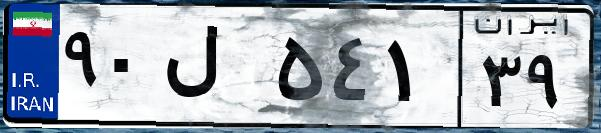0: (110, 28, 158, 98)
1: (385, 28, 445, 110)
3: (475, 38, 525, 113)
4: (330, 28, 385, 110)
5: (270, 28, 330, 110)
9: (57, 26, 110, 100), (525, 38, 570, 115)
ل: (158, 20, 270, 120)
